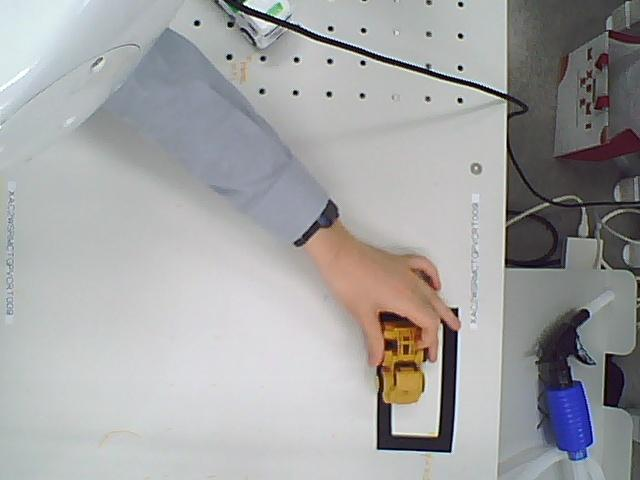Electric car: (205, 0, 300, 51)
Gasoline car: (377, 318, 427, 407)
